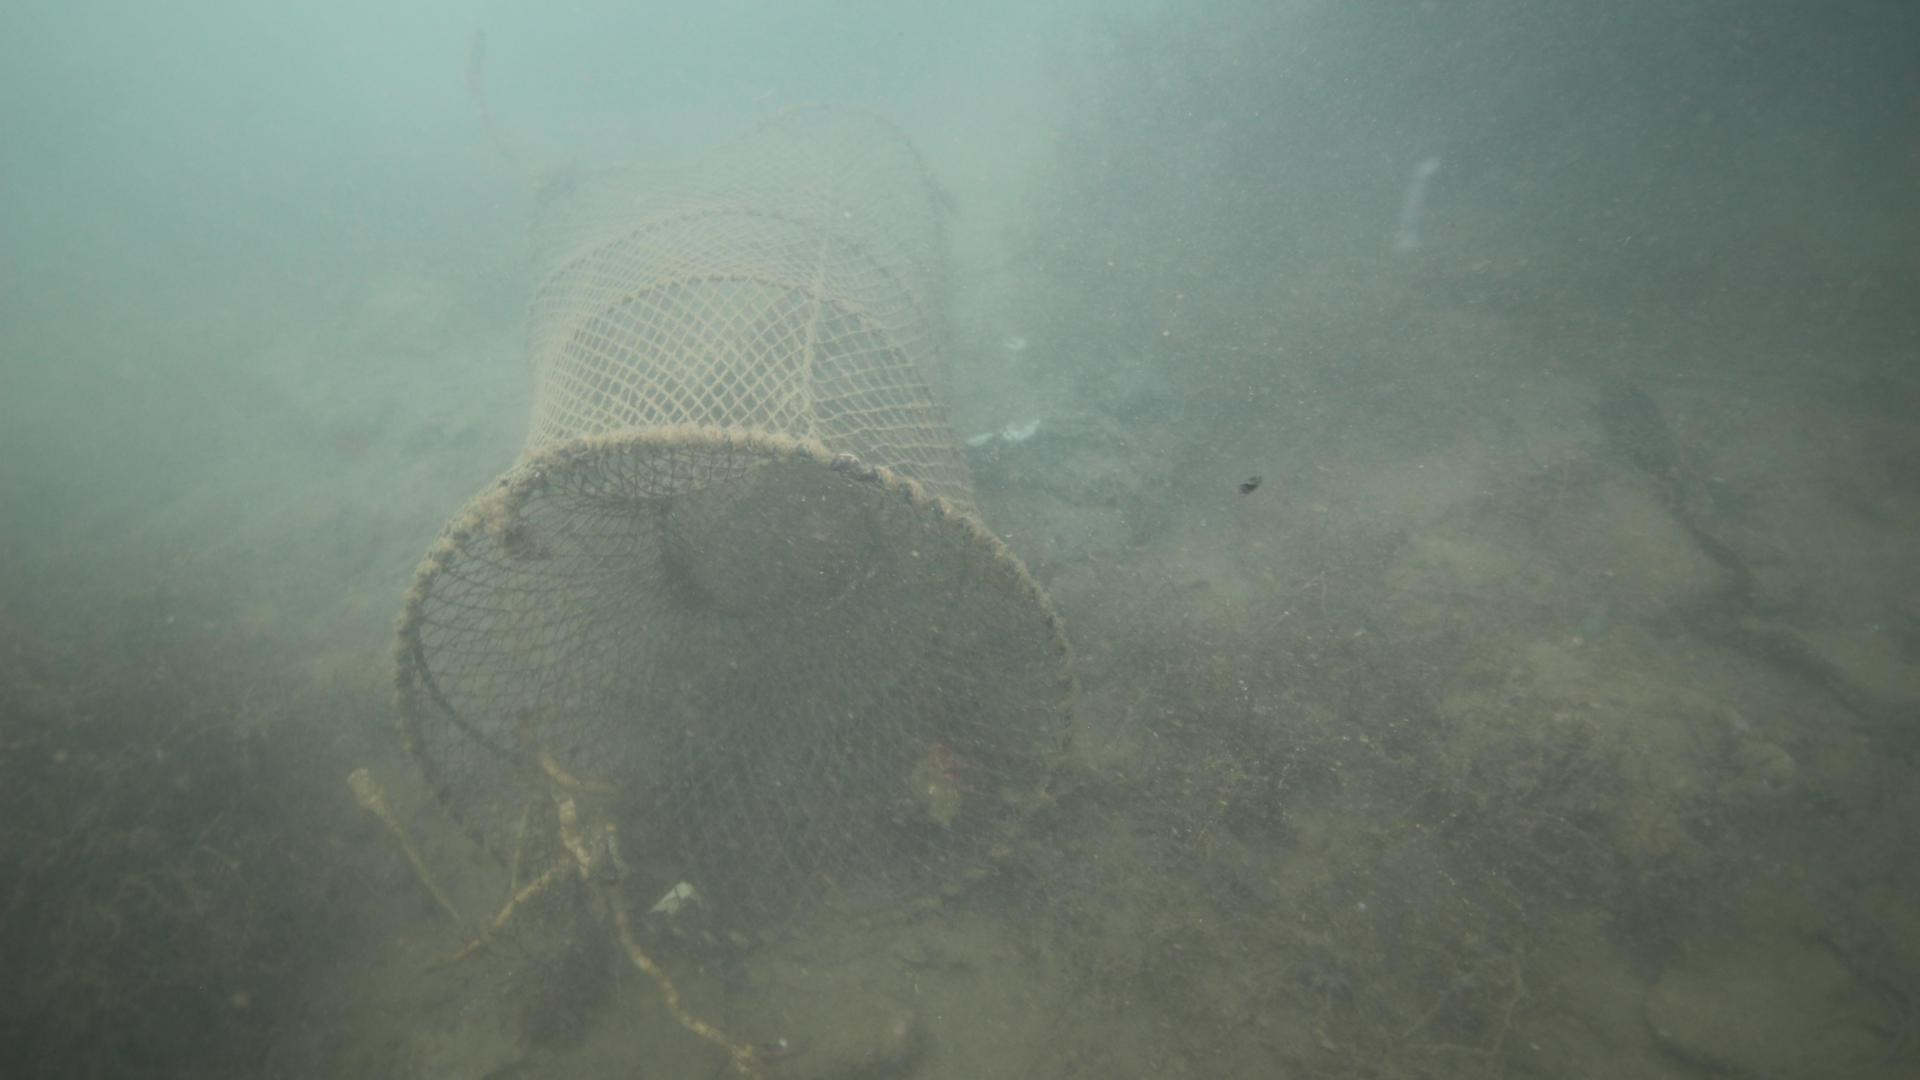spring fish trap: (390, 100, 1080, 953)
